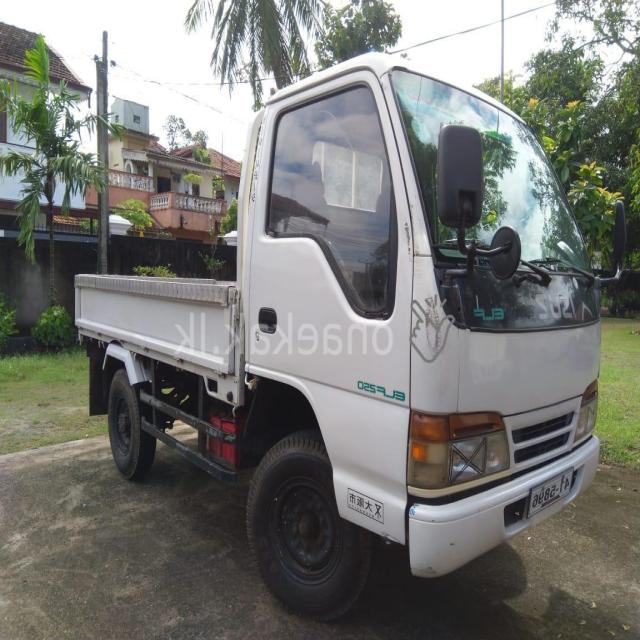Truck: (63, 49, 624, 621)
